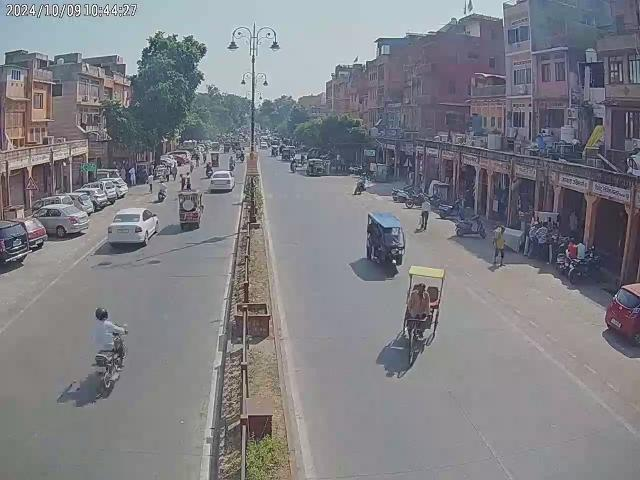auto: (364, 211, 406, 268), (178, 188, 204, 232)
car: (605, 278, 640, 341), (34, 200, 92, 237), (106, 207, 158, 248), (0, 216, 46, 262), (74, 184, 110, 212), (210, 169, 236, 194)
helmet: (95, 306, 108, 320)
license_plate: (116, 229, 130, 233)
motorbike: (567, 250, 603, 282), (390, 186, 419, 207)
motorbike-rider: (88, 306, 130, 398)
person: (492, 222, 506, 266), (420, 196, 430, 229), (179, 172, 192, 190)
rickshow: (401, 265, 448, 359)
scooty: (456, 212, 488, 238)
scooty-rider: (157, 180, 168, 201)
